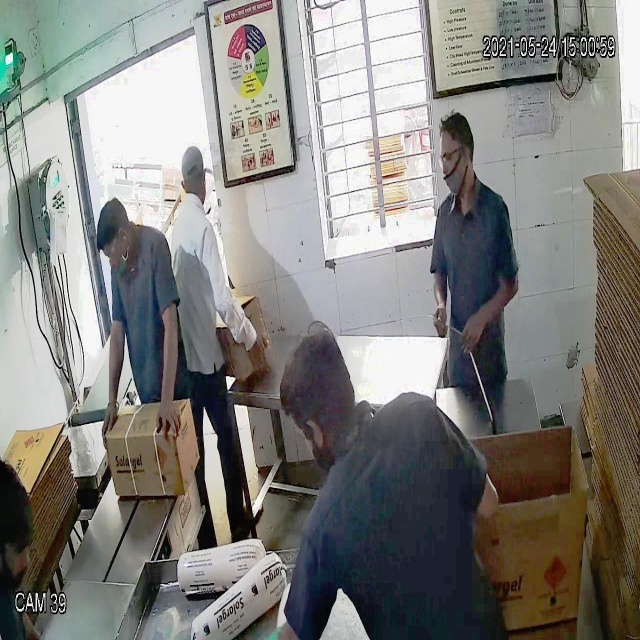Gafas: (438, 146, 474, 170)
